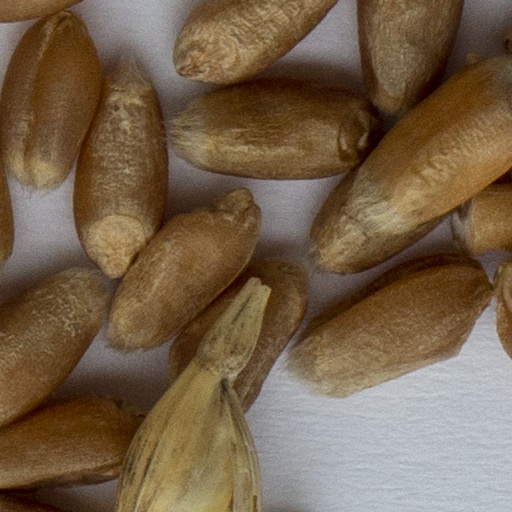Peel-poly: (115, 278, 260, 511)
Wheat-grain-damaged-poly: (450, 181, 511, 257)
